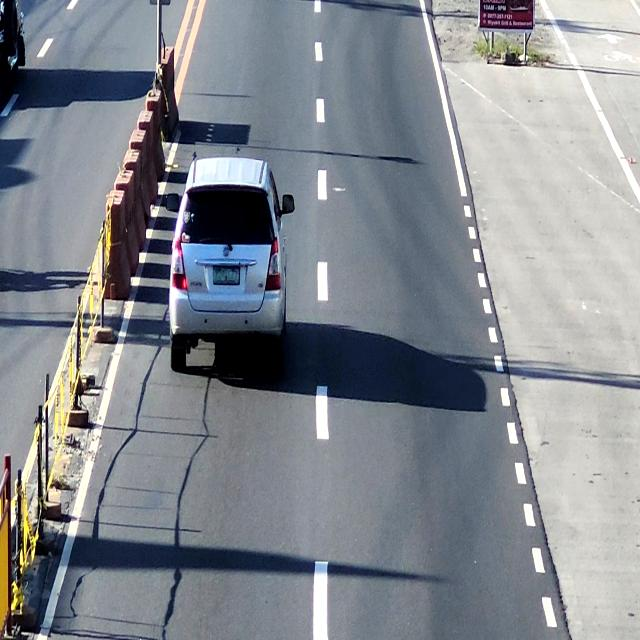Car: (174, 157, 286, 360)
License-Plate: (212, 266, 242, 292)
